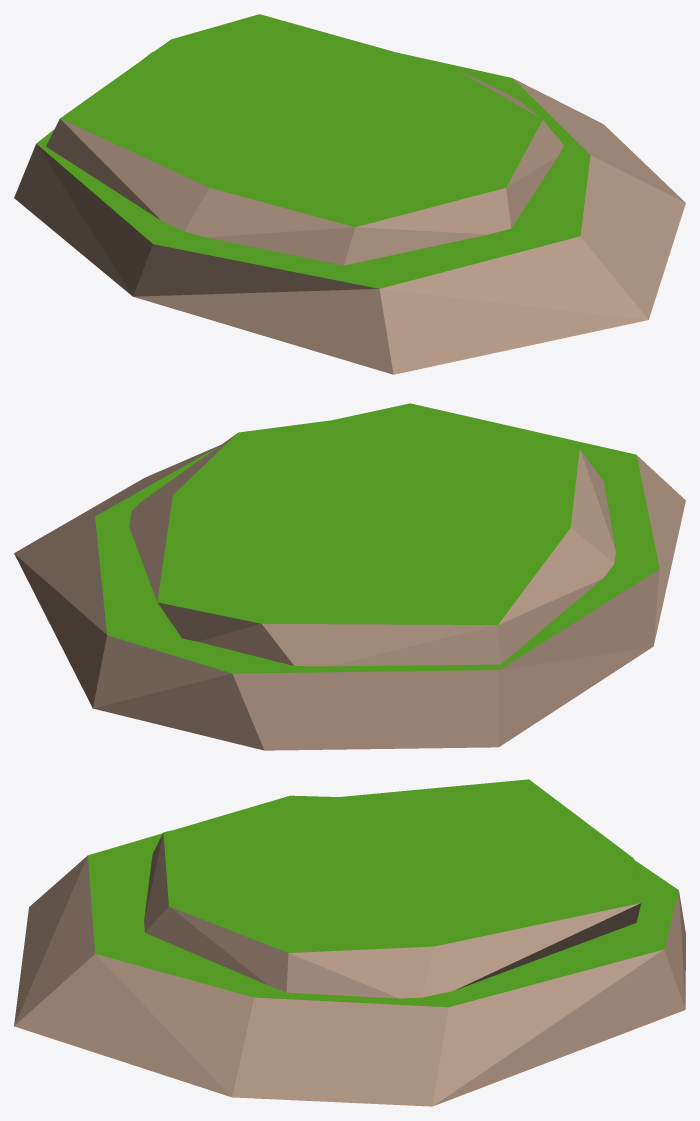
The model's file is Isl_6_Hill.fbx.
The picture shows the model from 3 angles, top to bottom: view 1: azimuth 30°, elevation 25°; view 2: azimuth 150°, elevation 25°; view 3: azimuth 270°, elevation 25°; orthographic projection. The views are drawn at different scales.
Parts seen in each view (by area): view 1: Isl_6_Hill; view 2: Isl_6_Hill; view 3: Isl_6_Hill.
Boxes of the visible parts, x1,y1,x2,y2 form: Isl_6_Hill: [14, 14, 685, 374]; Isl_6_Hill: [14, 403, 685, 750]; Isl_6_Hill: [14, 779, 685, 1106].
Size of the model in its own units: 1447 by 1611 by 236.
Materials: 1 (1 with a texture image).
